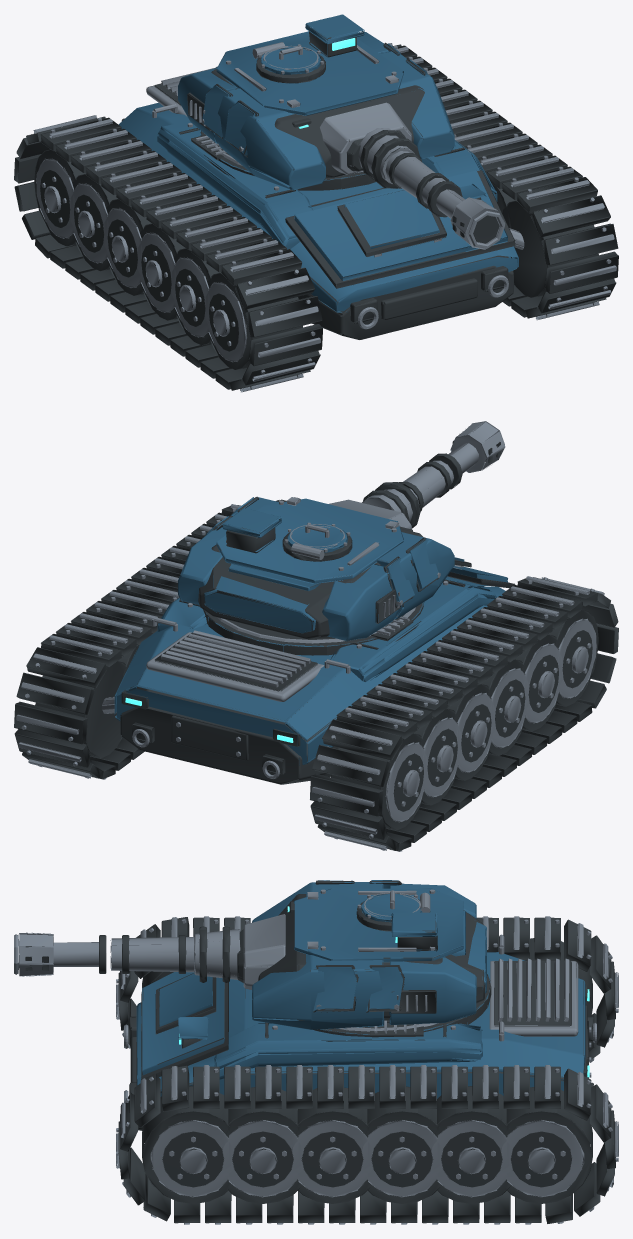
Rendered from tankHybridDistant.glb.
3 renders of one model, top to bottom at view 1: azimuth 30°, elevation 25°; view 2: azimuth 150°, elevation 25°; view 3: azimuth 270°, elevation 25°, orthographic. The views are drawn at different scales.
Parts seen in each view (by area): view 1: modelRoot-team-primary, turretYaw-team-primary, modelRoot-structure, turretYaw-structure, turretYaw-neutral-metal, barrelRecoil-neutral-metal, barrelRecoil-structure, wheelR0-structure, wheelL0-structure, modelRoot-neutral-metal, wheelL5-structure, wheelL0-neutral-metal (+40 smaller); view 2: turretYaw-team-primary, modelRoot-team-primary, modelRoot-structure, turretYaw-structure, modelRoot-neutral-metal, barrelRecoil-neutral-metal, turretYaw-neutral-metal, wheelR5-structure, wheelL5-structure, barrelRecoil-structure, wheelL0-structure, wheelL5-neutral-metal (+36 smaller); view 3: turretYaw-team-primary, modelRoot-team-primary, modelRoot-structure, barrelRecoil-neutral-metal, turretYaw-structure, modelRoot-neutral-metal, wheelR0-structure, wheelR5-structure, turretYaw-neutral-metal, wheelR4-structure, wheelR1-structure, wheelR2-structure (+48 smaller).
Boxes of the visible parts, x1,y1,x2,y2 form: modelRoot-team-primary: [118, 103, 518, 312]; turretYaw-team-primary: [178, 14, 454, 190]; modelRoot-structure: [121, 83, 515, 339]; turretYaw-structure: [187, 29, 426, 190]; turretYaw-neutral-metal: [189, 42, 411, 175]; barrelRecoil-neutral-metal: [358, 128, 505, 249]; barrelRecoil-structure: [360, 130, 499, 243]; wheelR0-structure: [502, 200, 598, 297]; wheelL0-structure: [207, 272, 302, 369]; modelRoot-neutral-metal: [146, 68, 524, 329]; wheelL5-structure: [34, 149, 86, 246]; wheelL0-neutral-metal: [205, 282, 247, 362]; turretYaw-team-primary: [178, 497, 454, 641]; modelRoot-team-primary: [114, 557, 507, 765]; modelRoot-structure: [120, 560, 515, 784]; turretYaw-structure: [198, 496, 438, 655]; modelRoot-neutral-metal: [101, 565, 463, 778]; barrelRecoil-neutral-metal: [362, 421, 505, 522]; turretYaw-neutral-metal: [217, 497, 440, 643]; wheelR5-structure: [35, 661, 127, 757]; wheelL5-structure: [331, 733, 425, 830]; barrelRecoil-structure: [363, 435, 500, 528]; wheelL0-structure: [530, 609, 598, 706]; wheelL5-neutral-metal: [385, 742, 427, 822]; turretYaw-team-primary: [252, 880, 486, 1029]; modelRoot-team-primary: [136, 952, 585, 1098]; modelRoot-structure: [129, 961, 593, 1130]; barrelRecoil-neutral-metal: [14, 929, 240, 979]; turretYaw-structure: [237, 880, 491, 1041]; modelRoot-neutral-metal: [124, 934, 596, 1103]; wheelR0-structure: [142, 1086, 240, 1203]; wheelR5-structure: [496, 1087, 592, 1203]; turretYaw-neutral-metal: [243, 889, 438, 1031]; wheelR4-structure: [430, 1086, 518, 1203]; wheelR1-structure: [215, 1087, 304, 1203]; wheelR2-structure: [285, 1087, 375, 1203].
Size of the model in its own units: 2.07 by 1.23 by 2.88.
